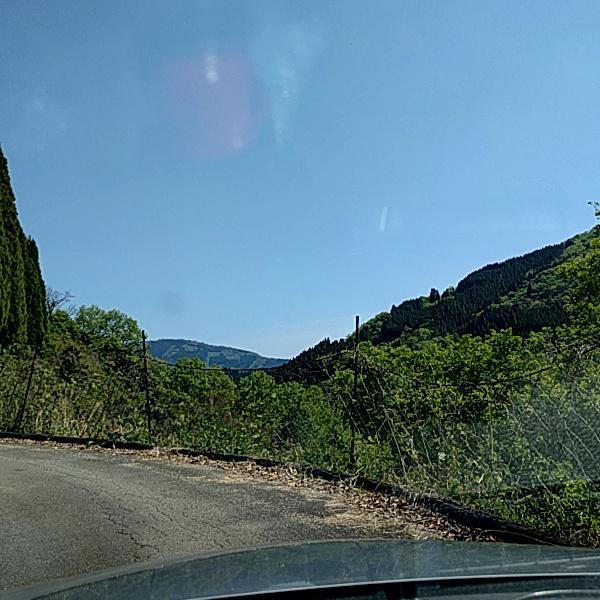D20: (6, 152, 599, 451), (65, 468, 268, 554)
